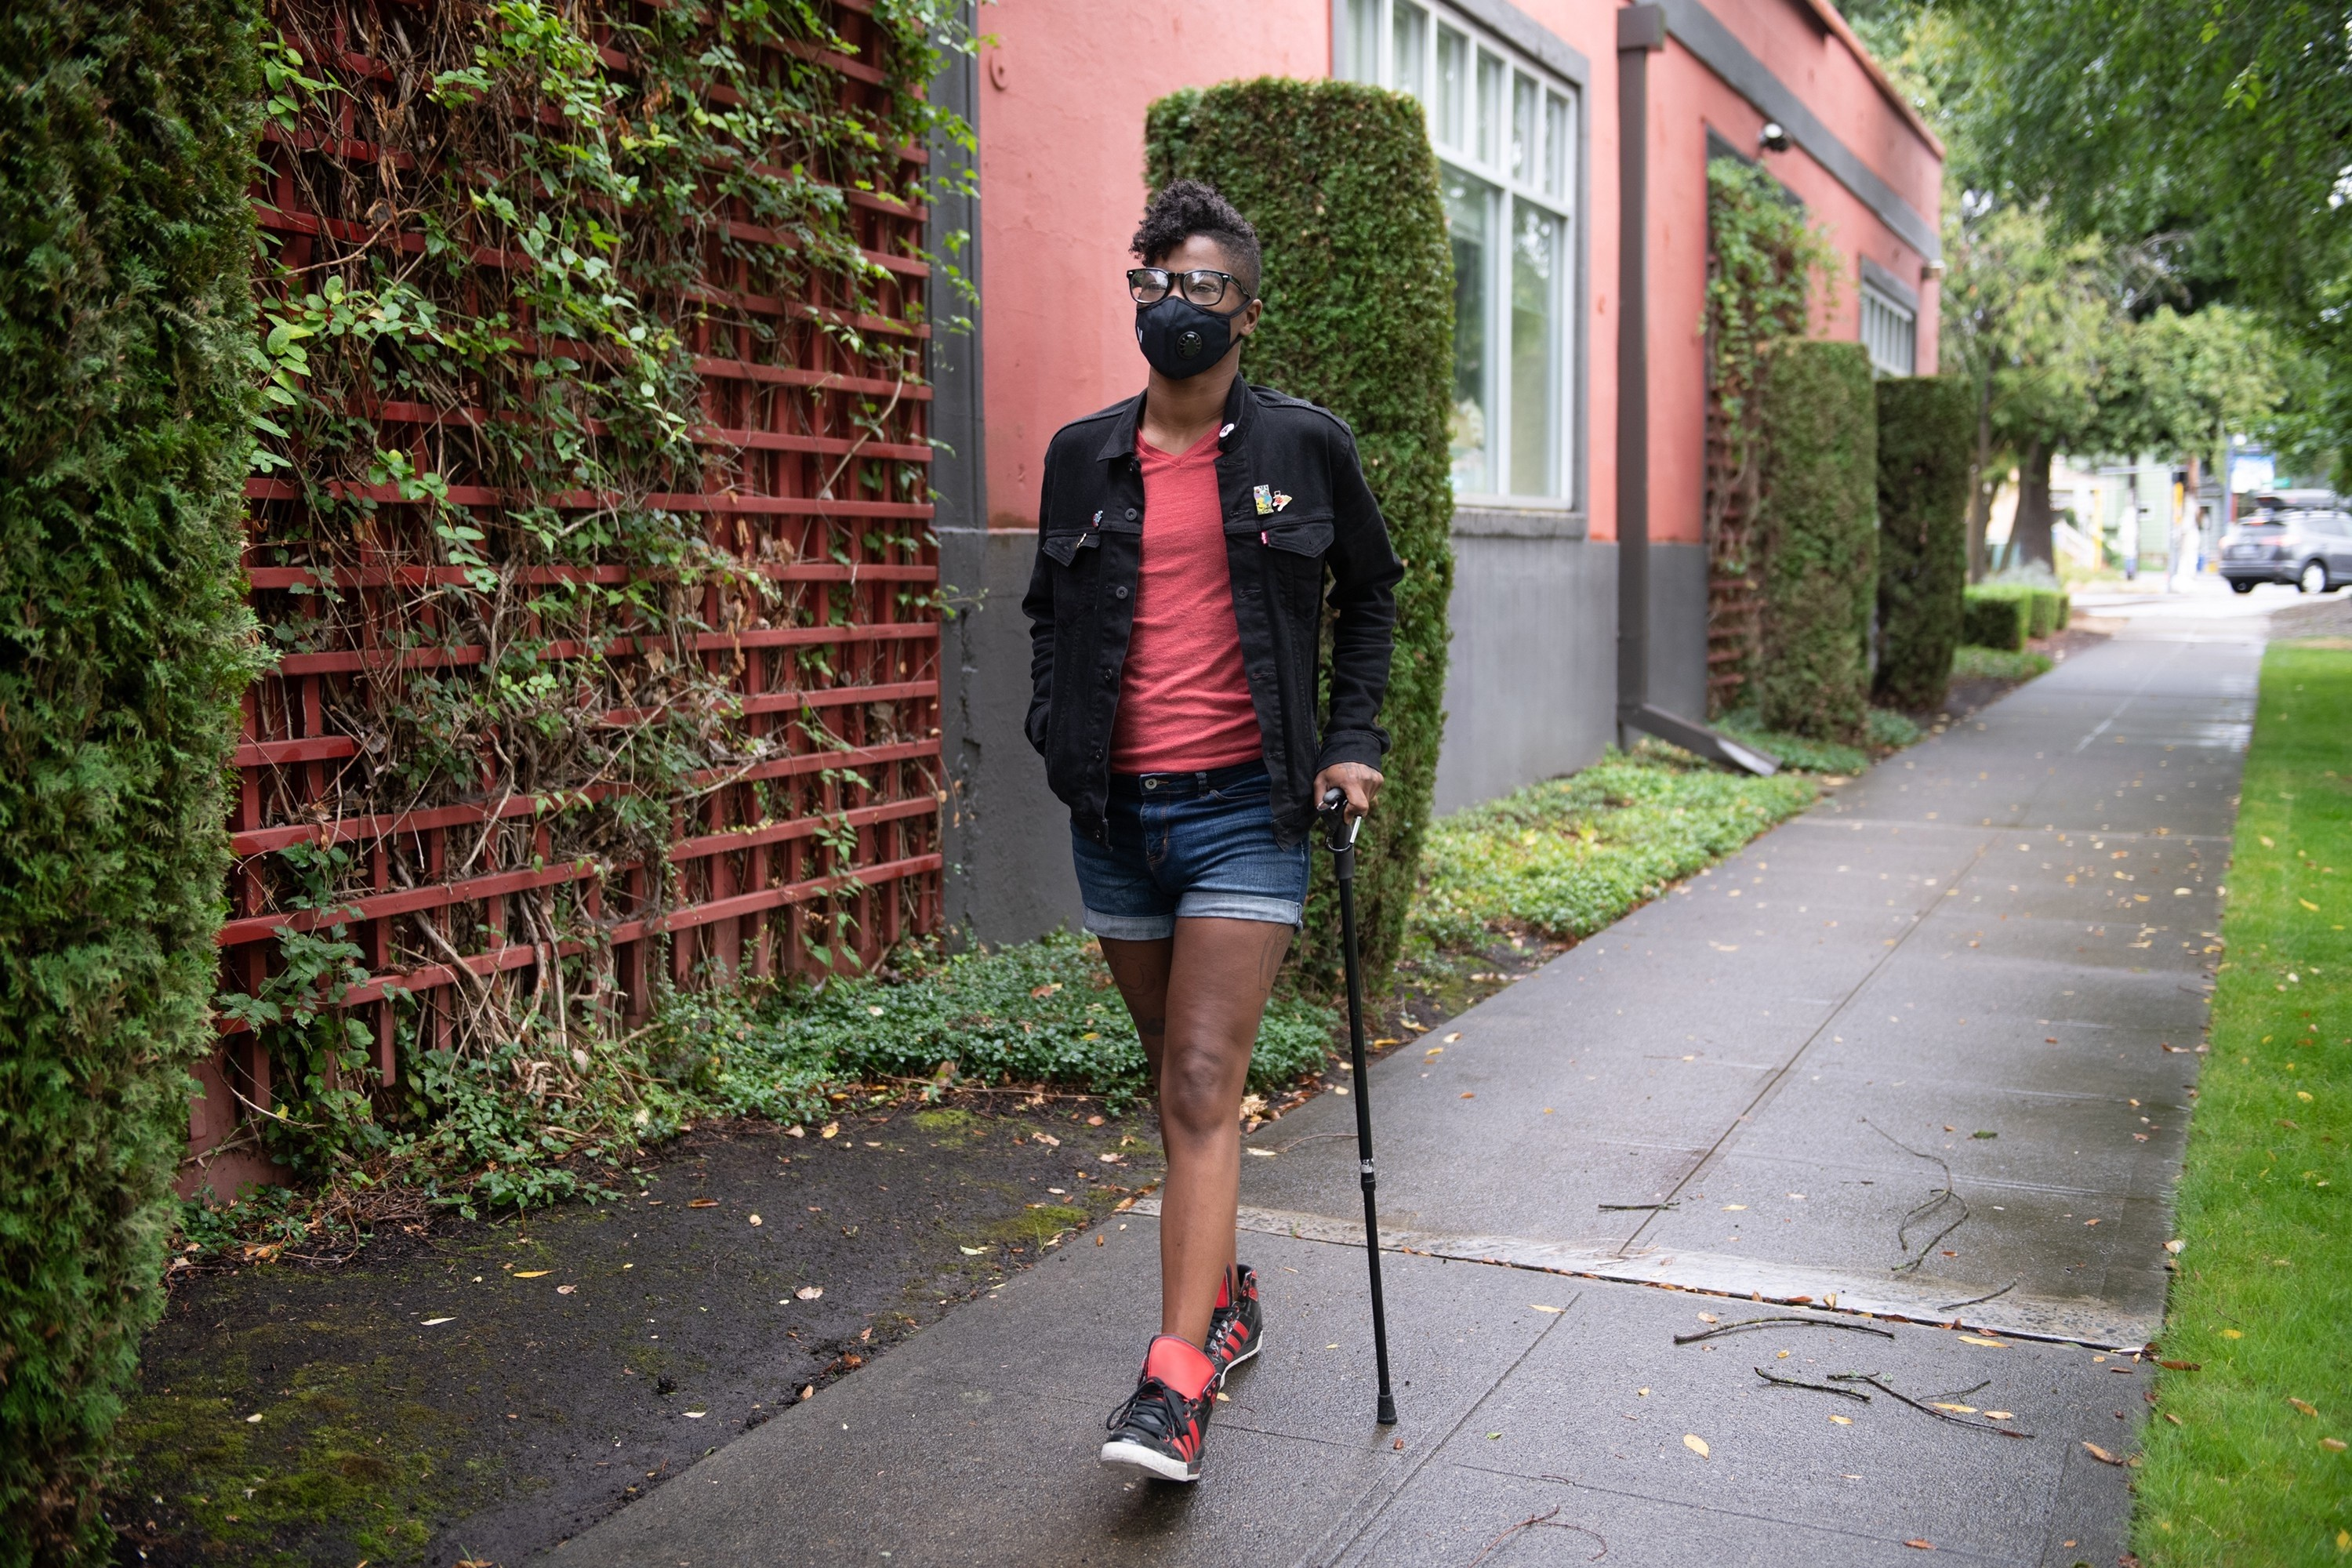face_with_mask: (1131, 215, 1265, 375)
